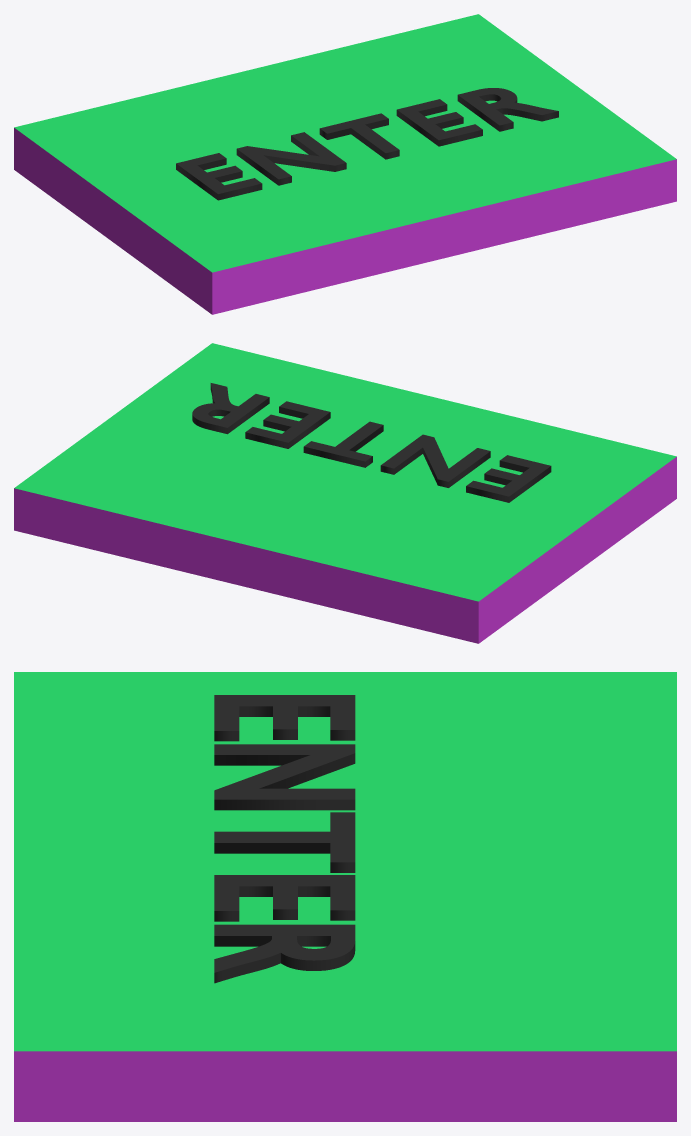
File: Enter.glb
3 renders of one model, top to bottom at view 1: azimuth 30°, elevation 25°; view 2: azimuth 150°, elevation 25°; view 3: azimuth 270°, elevation 25°, orthographic. The views are drawn at different scales.
Parts seen in each view (by area): view 1: Cube.004, Text.001; view 2: Cube.004, Text.001; view 3: Cube.004, Text.001.
Part boxes in pixels (box(x1,y1,x2,y2)): Cube.004: box(14, 14, 676, 314); Text.001: box(176, 88, 558, 200); Cube.004: box(14, 343, 676, 643); Text.001: box(192, 383, 551, 502); Cube.004: box(14, 672, 676, 1121); Text.001: box(214, 695, 355, 983).
Bounding box in the file's own units: 4.6 × 0.5746 × 3.4.
